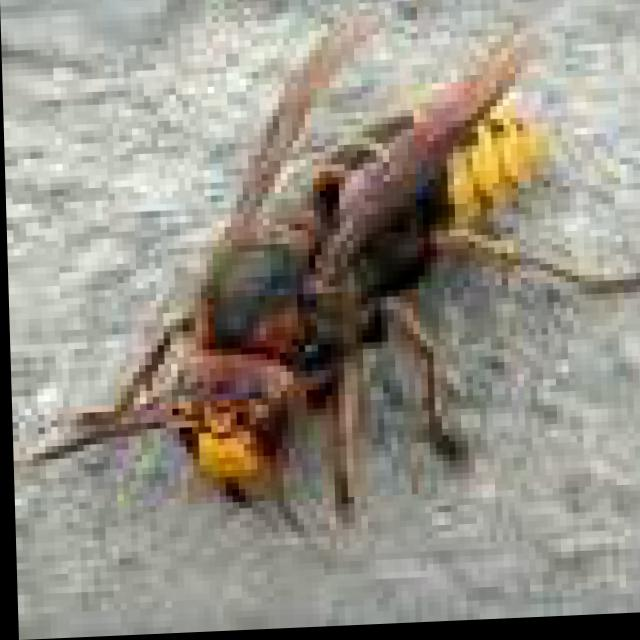Vespa Orientalis: (0, 0, 639, 557)
